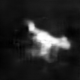plane: (23, 18, 71, 63)
